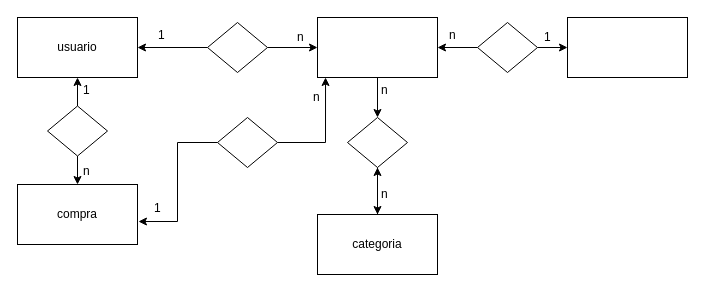
The diagram is 705 pixels wide and 292 high, and some of its shapes have lost their labels. Each missing label, with the centre of its shape:
marca: the point at 627,47
producto: the point at 377,47
